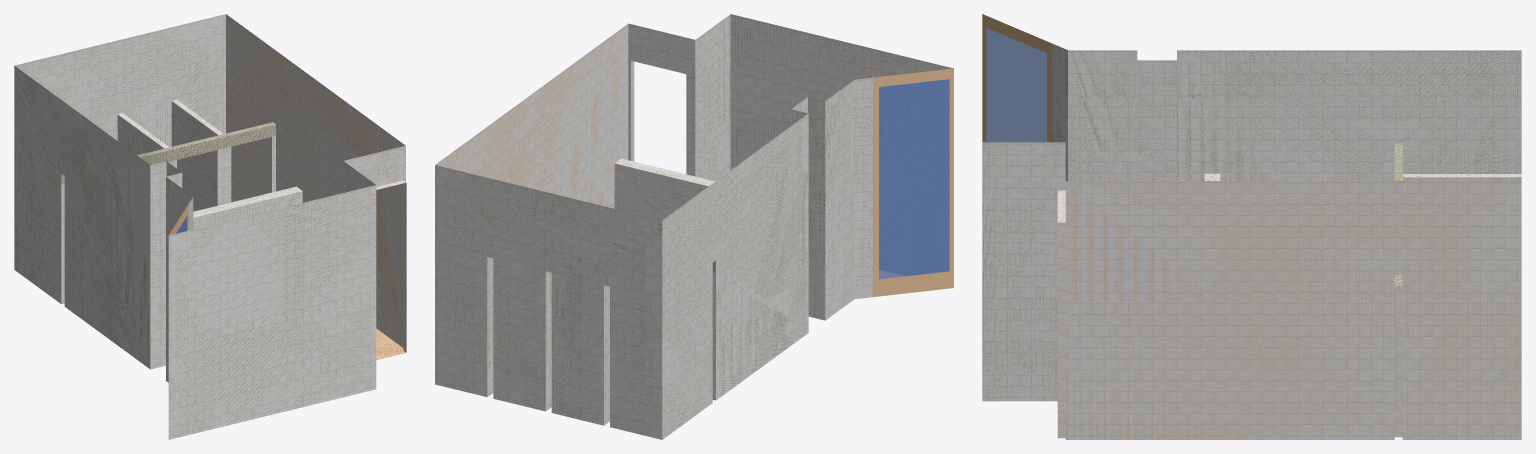
Rendered from COM003.obj.
3 renders of one model, left to right at view 1: azimuth 30°, elevation 25°; view 2: azimuth 150°, elevation 25°; view 3: azimuth 270°, elevation 25°, orthographic. The views are drawn at different scales.
Parts seen in each view (by area): view 1: Mesh1 COM003 Model; view 2: Mesh1 COM003 Model; view 3: Mesh1 COM003 Model.
Boxes of the visible parts, box(x1,y1,x2,y2) form: Mesh1 COM003 Model: box(14, 14, 406, 439); Mesh1 COM003 Model: box(435, 14, 953, 439); Mesh1 COM003 Model: box(982, 14, 1521, 439).
Size of the model in its own units: 4.98 by 3.6 by 6.8.
Materials: 6 (3 with a texture image).
